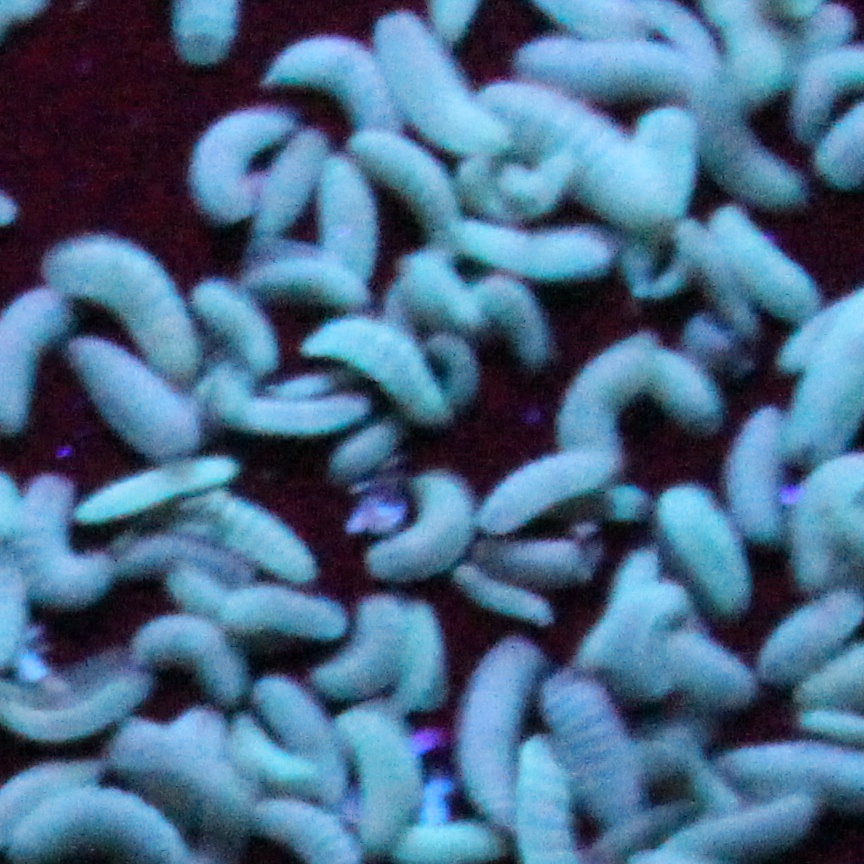larve: (555, 677, 634, 825), (13, 802, 183, 864), (458, 651, 522, 809), (461, 215, 605, 278), (353, 698, 414, 845), (20, 488, 88, 617), (190, 91, 255, 225), (681, 801, 823, 861), (60, 244, 175, 315), (291, 39, 387, 124), (668, 485, 735, 602), (727, 408, 784, 540), (394, 47, 478, 132), (564, 347, 632, 451), (543, 47, 687, 94), (710, 110, 784, 201), (488, 461, 590, 525), (571, 135, 658, 208), (234, 504, 318, 578), (747, 227, 817, 315), (138, 619, 224, 688), (383, 140, 448, 231), (344, 318, 421, 394), (90, 457, 225, 497), (208, 272, 268, 362), (221, 398, 347, 440), (228, 588, 340, 634), (97, 365, 161, 445), (772, 587, 838, 664), (321, 167, 374, 261), (417, 475, 474, 562), (265, 144, 321, 229), (347, 594, 400, 681), (457, 574, 551, 622), (433, 334, 485, 415), (473, 165, 557, 211), (113, 532, 218, 568), (173, 4, 237, 62), (678, 642, 744, 698), (234, 722, 295, 781), (411, 604, 448, 701), (407, 249, 457, 319), (657, 351, 703, 425), (725, 25, 781, 85), (285, 265, 367, 301), (788, 58, 838, 105), (337, 444, 395, 474)
